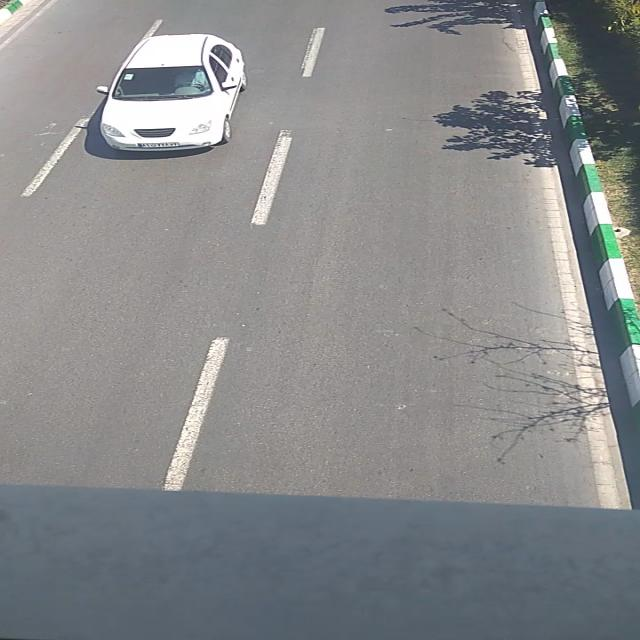car: (97, 33, 249, 152)
